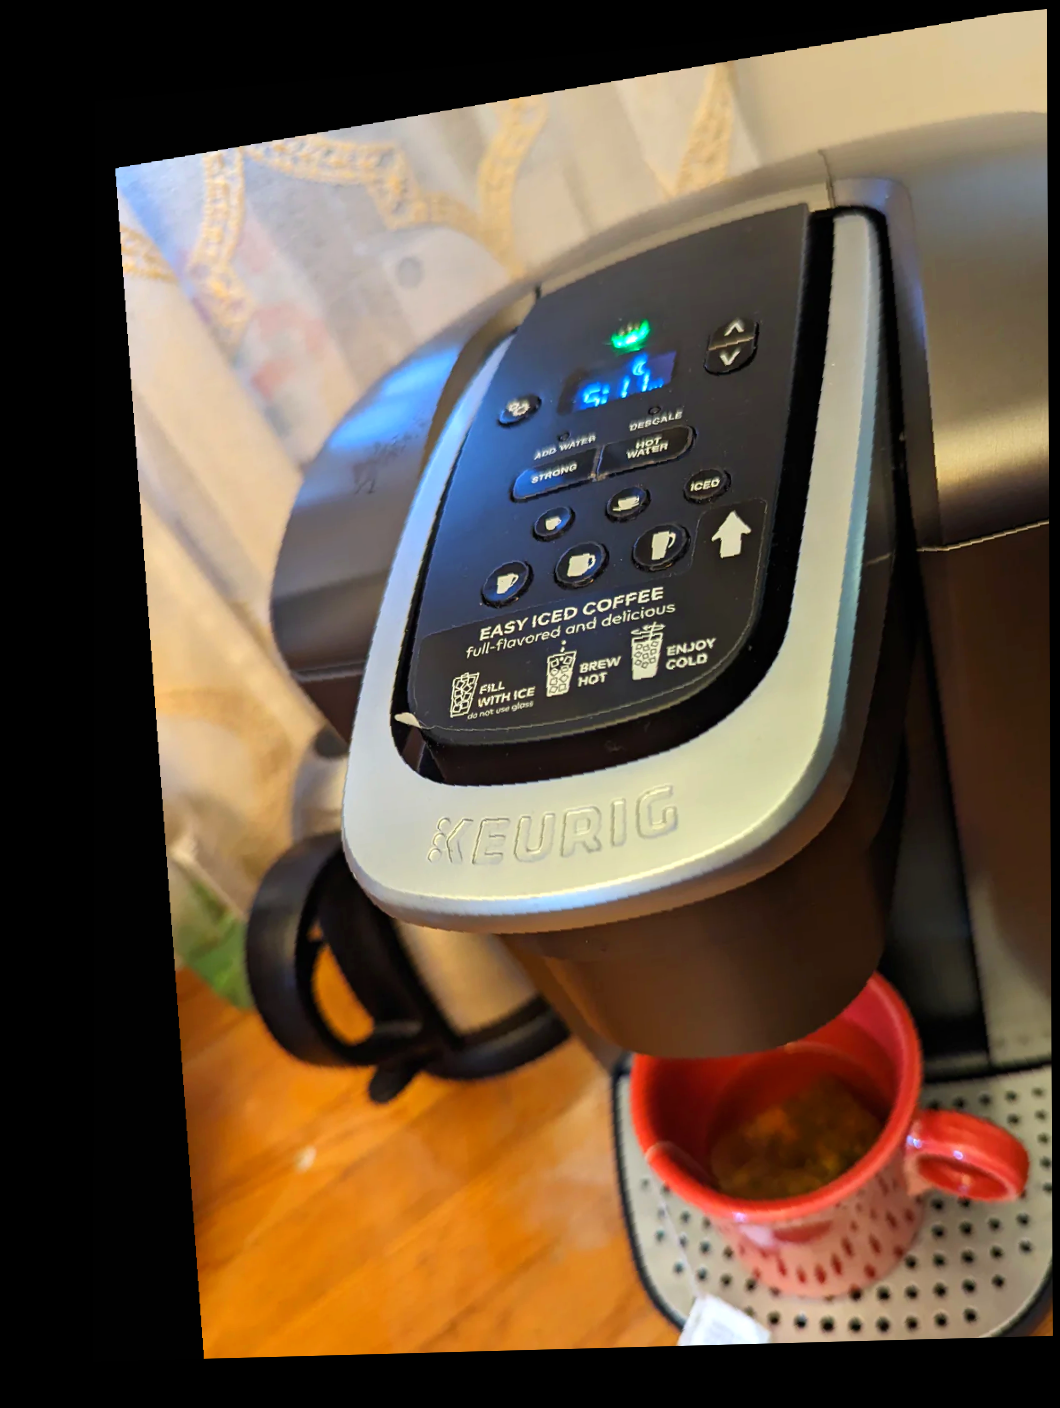10oz: (543, 531, 620, 601)
12oz: (620, 511, 698, 581)
4oz: (523, 498, 580, 547)
6oz: (597, 480, 655, 529)
8oz: (468, 549, 544, 619)
add_water: (524, 414, 603, 466)
coffee_handle: (380, 868, 650, 944)
descale: (612, 387, 693, 441)
hot: (601, 424, 694, 481)
iced: (675, 456, 740, 515)
power: (605, 312, 656, 356)
strong: (510, 450, 601, 506)
